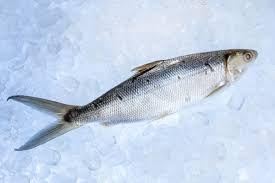Bangus: (8, 49, 259, 151)
